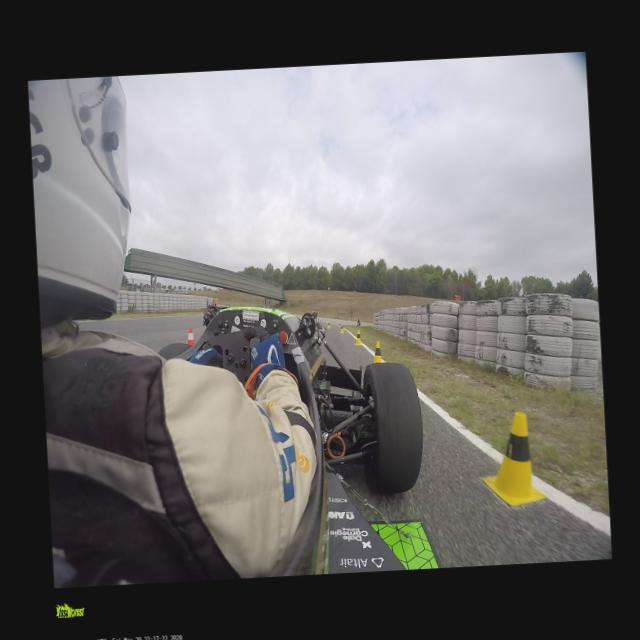orange_cone: (188, 328, 195, 346)
yellow_cone: (480, 409, 545, 505), (372, 341, 382, 363), (354, 330, 362, 346), (339, 324, 344, 334), (326, 321, 331, 329)
